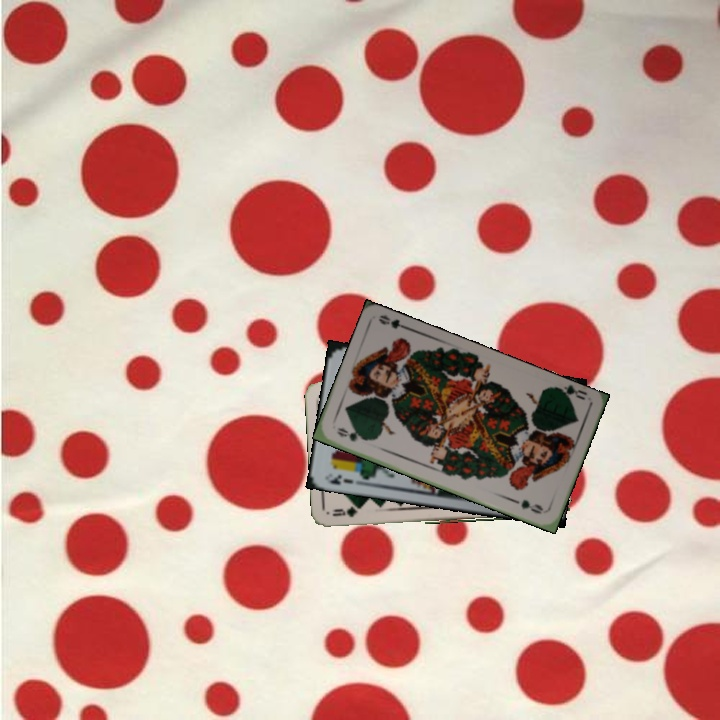EK: (323, 470, 356, 488)
G9: (329, 503, 366, 519)
GO: (550, 382, 589, 405), (332, 424, 371, 444)
